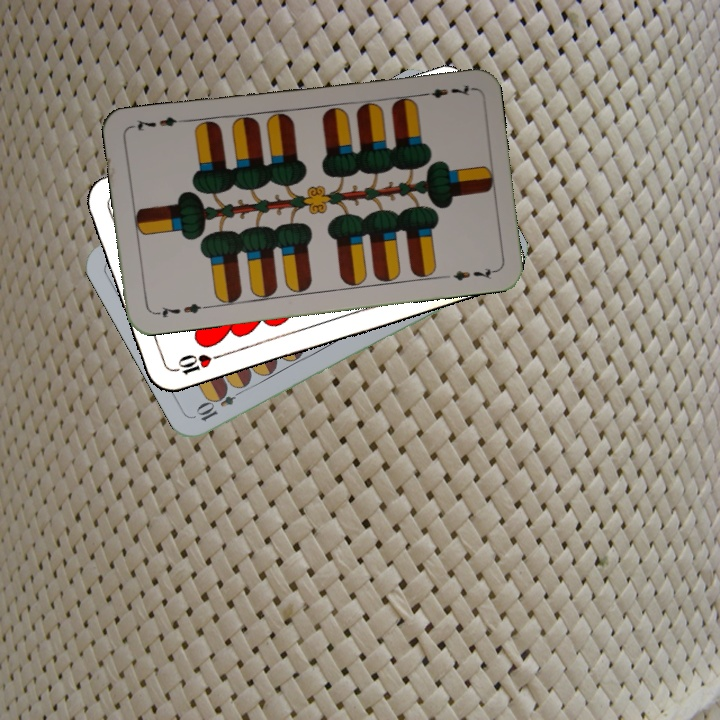E10: (193, 383, 248, 424)
E7: (150, 299, 209, 321), (415, 80, 474, 101)
H10: (167, 349, 226, 377)
